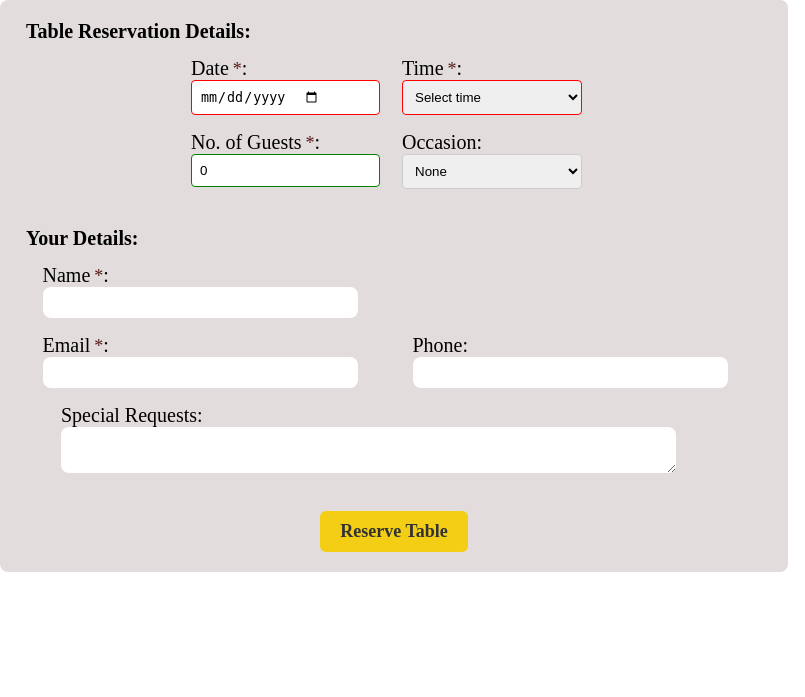
Test: BookingForm Input Field Attributes › displays error message when submitting empty form
What coordinates should you click on to do the following:
click the button "Reserve Table"
I would click on:
 (394, 531)
Its box is x1=320 y1=510 x2=468 y2=552.
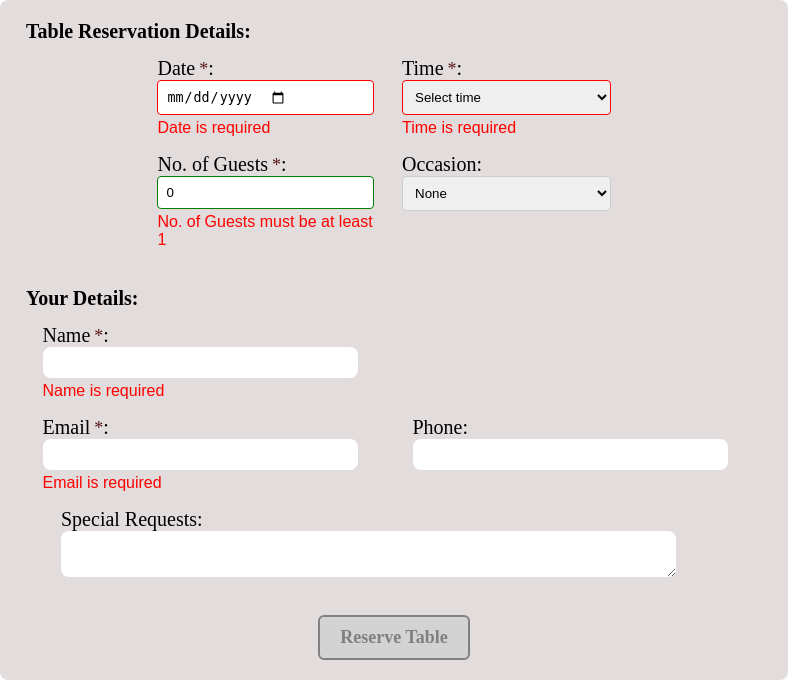
Now the text "Date is required" is shown, box x1=157 y1=119 x2=270 y2=137
Now the text "Time is required" is shown, box x1=402 y1=119 x2=516 y2=137
Now the text "No. of Guests must be at least 1" is shown, box x1=157 y1=213 x2=378 y2=249
